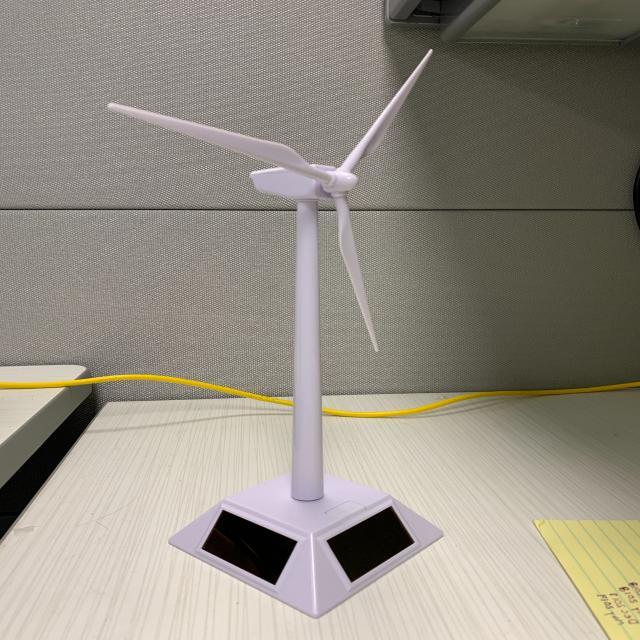solid-blade: (108, 102, 330, 181), (339, 49, 432, 172), (334, 195, 379, 351)
